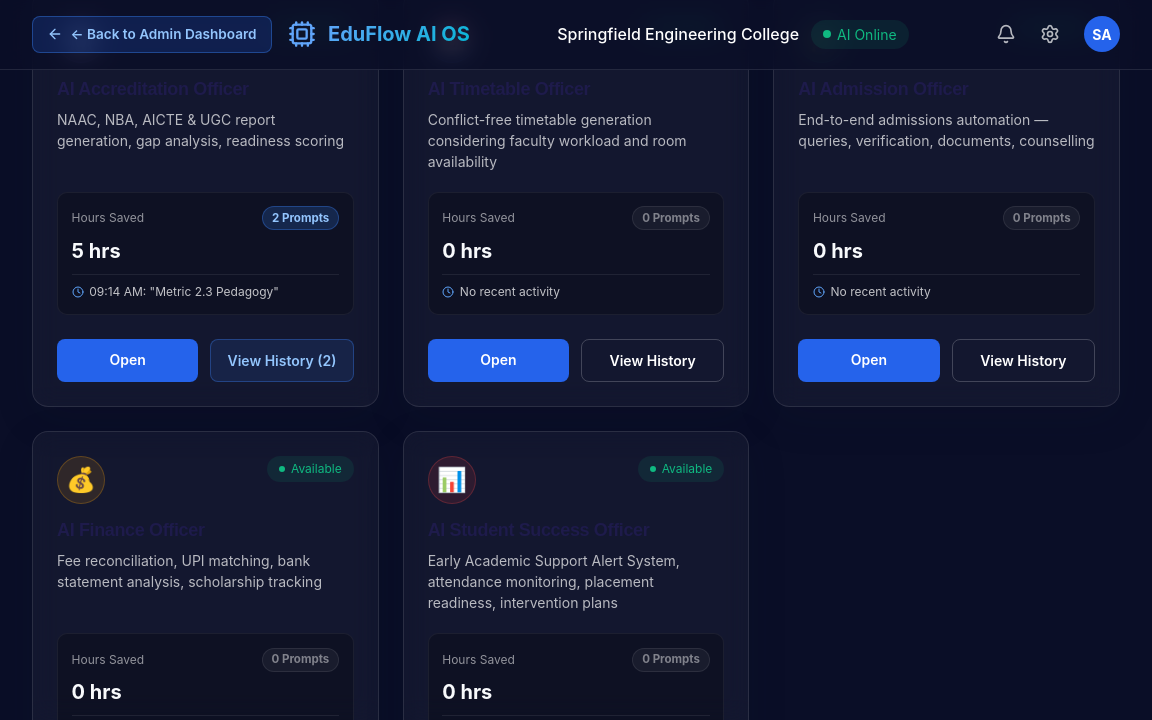
Test: OfficersDashboard › detects and displays history from local sessions on the dashboard
(page scrolled)
Expected: the text "2 Prompts" is shown, [262,206,339,230]
Note: Click View History (2) to open modal
Click the button "View History (2)": (282, 361) [210,339,354,382]
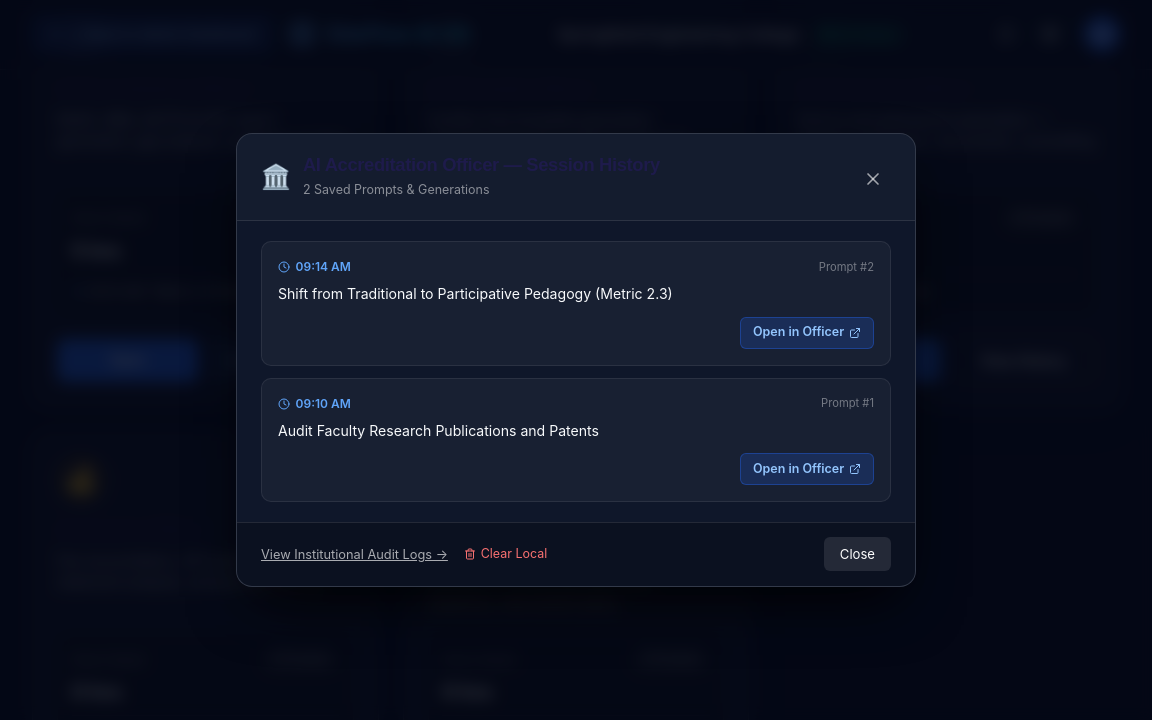
Result: the heading "AI Accreditation Officer — Session History" is shown at [303,154,660,176]
Result: the text "Shift from Traditional to Participative Pedagogy (Metric 2.3)" is shown at [278,285,673,302]
Result: the text "2 Saved Prompts & Generations" is shown at [303,182,490,197]
